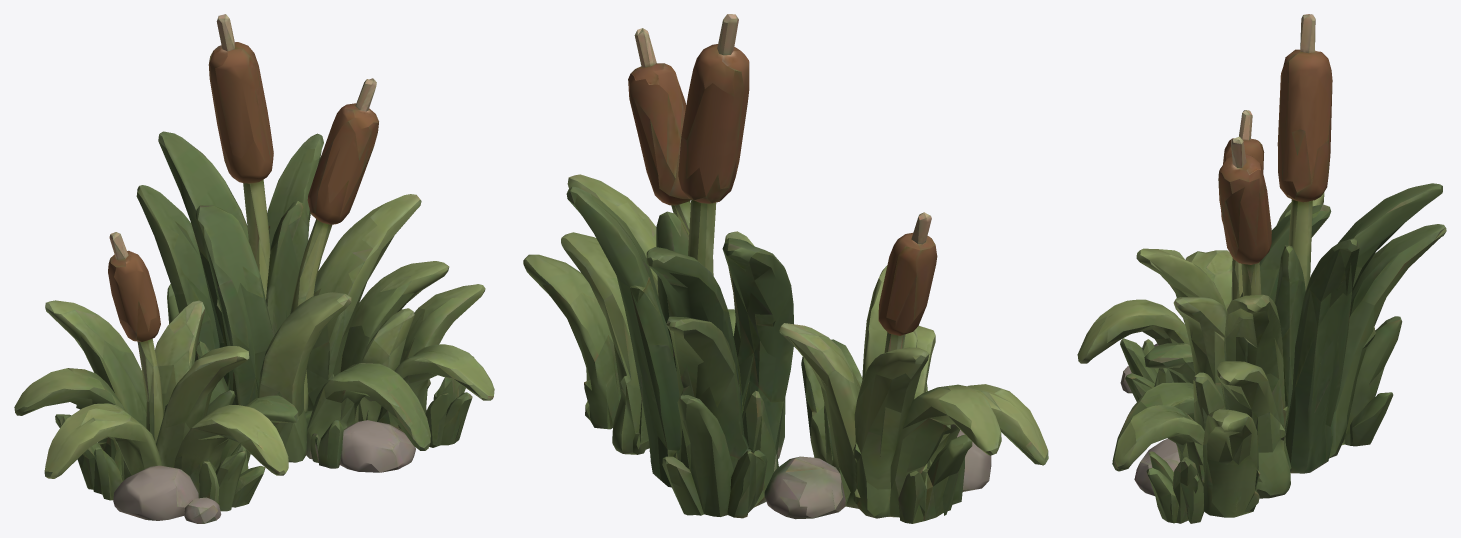
File: cattail.glb
The picture shows the model from 3 angles, left to right: view 1: azimuth 30°, elevation 25°; view 2: azimuth 150°, elevation 25°; view 3: azimuth 270°, elevation 25°; orthographic projection. The views are drawn at different scales.
Visible parts, largest first — view 1: Mesh_0; view 2: Mesh_0; view 3: Mesh_0.
Boxes of the visible parts, x1=… form: Mesh_0: x1=14, y1=14, x2=494, y2=523; Mesh_0: x1=523, y1=14, x2=1048, y2=523; Mesh_0: x1=1077, y1=14, x2=1446, y2=523.
Size of the model in its own units: 1.2 by 1.07 by 0.8399.
1 material, 1 textured.
